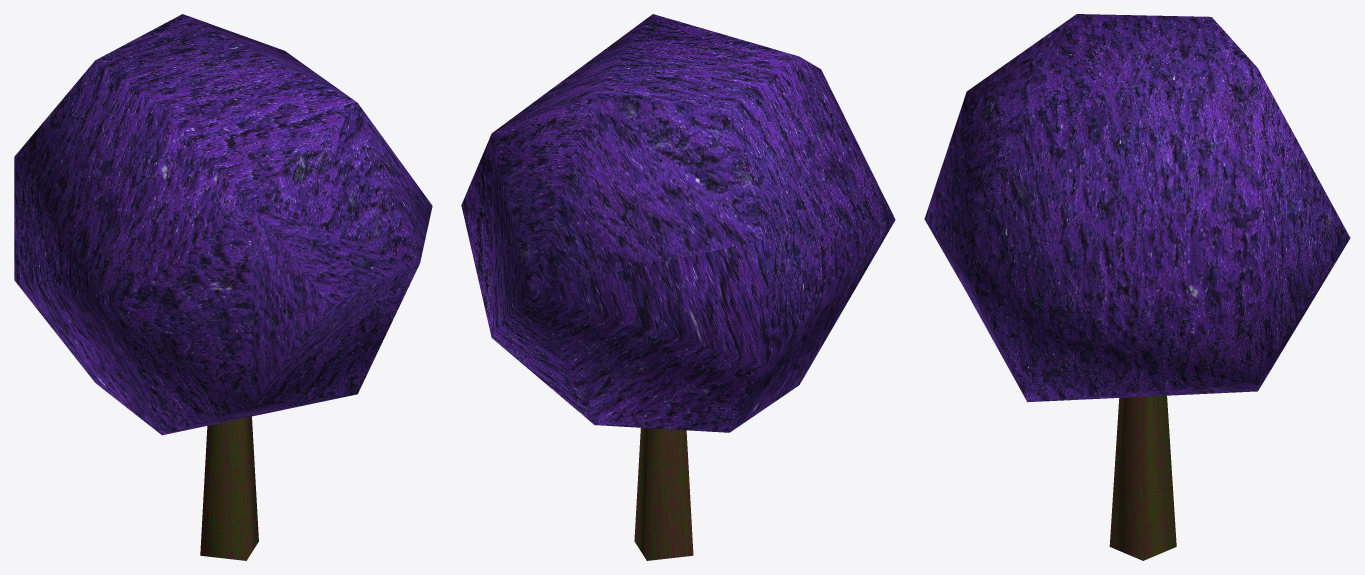
Rendered from bushtree.FBX.
3 views of the same model, side by side, from view 1: azimuth 30°, elevation 25°; view 2: azimuth 150°, elevation 25°; view 3: azimuth 270°, elevation 25° (orthographic).
Parts seen in each view (by area): view 1: GeoSphere001, Cylinder001; view 2: GeoSphere001, Cylinder001; view 3: GeoSphere001, Cylinder001.
Part boxes in pixels (x1=…): GeoSphere001: x1=14, y1=14, x2=432, y2=435; Cylinder001: x1=200, y1=416, x2=258, y2=560; GeoSphere001: x1=461, y1=14, x2=895, y2=432; Cylinder001: x1=634, y1=427, x2=693, y2=560; GeoSphere001: x1=924, y1=14, x2=1350, y2=402; Cylinder001: x1=1109, y1=395, x2=1176, y2=560.
Size of the model in its own units: 0.0168 by 0.0183 by 0.023.
2 materials, 2 textured.
